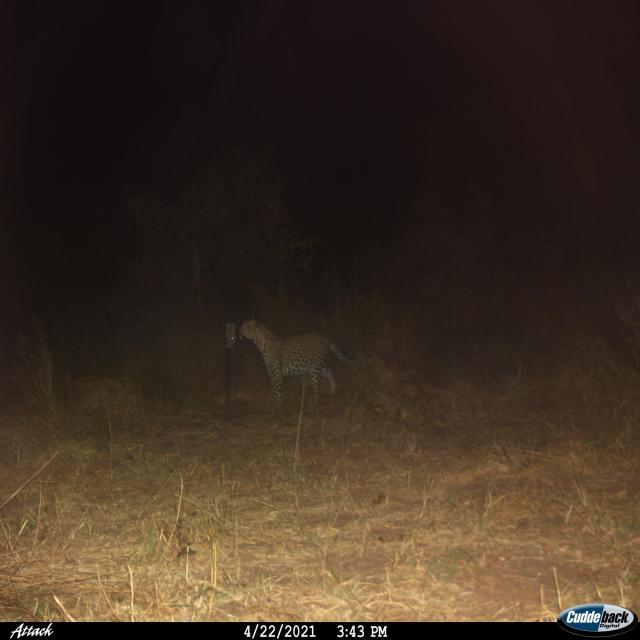Leopard: (222, 316, 355, 408)
